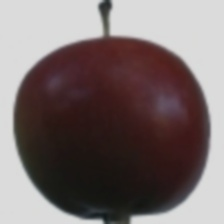apple: (28, 50, 214, 207)
